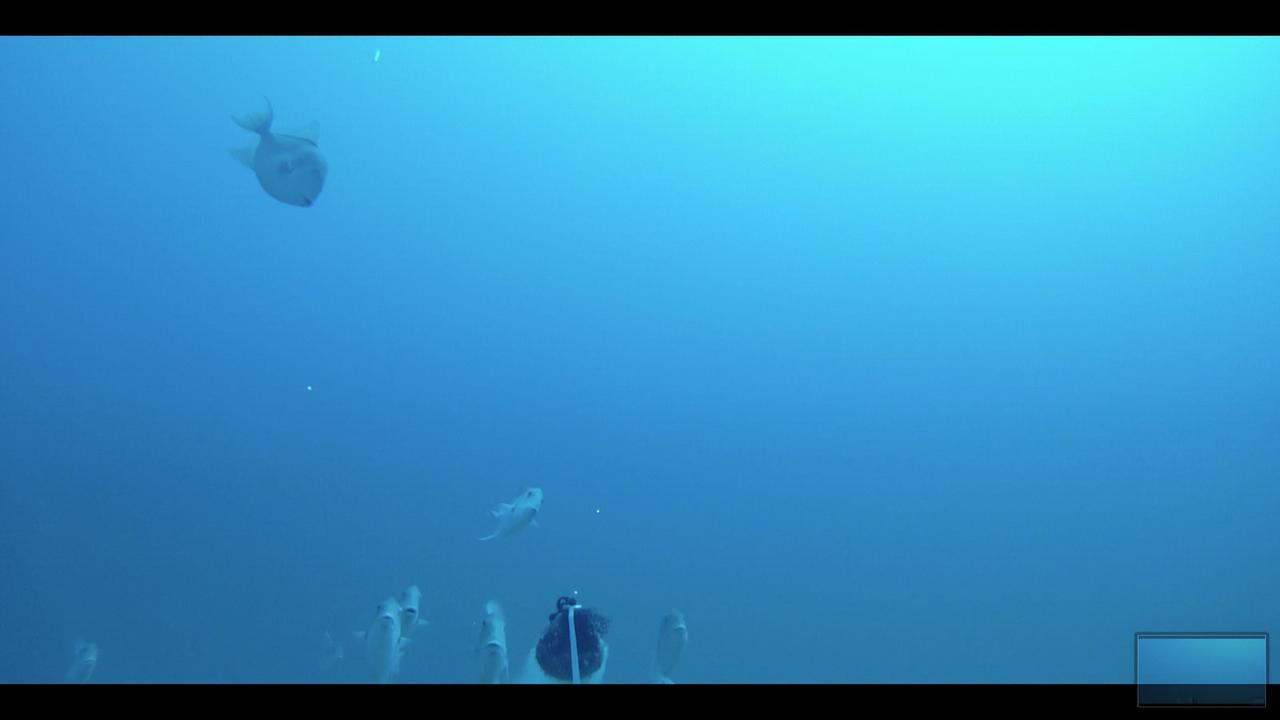balistes: (225, 93, 331, 208), (469, 474, 546, 552), (360, 588, 412, 680), (645, 604, 694, 680), (473, 596, 512, 679), (392, 582, 431, 652)
